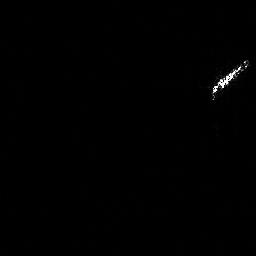ship: (210, 57, 250, 102)
